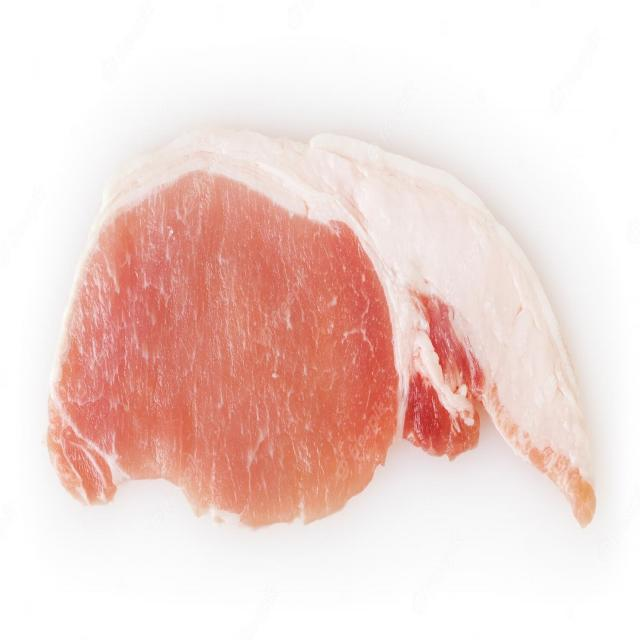pork: (46, 128, 597, 525)
